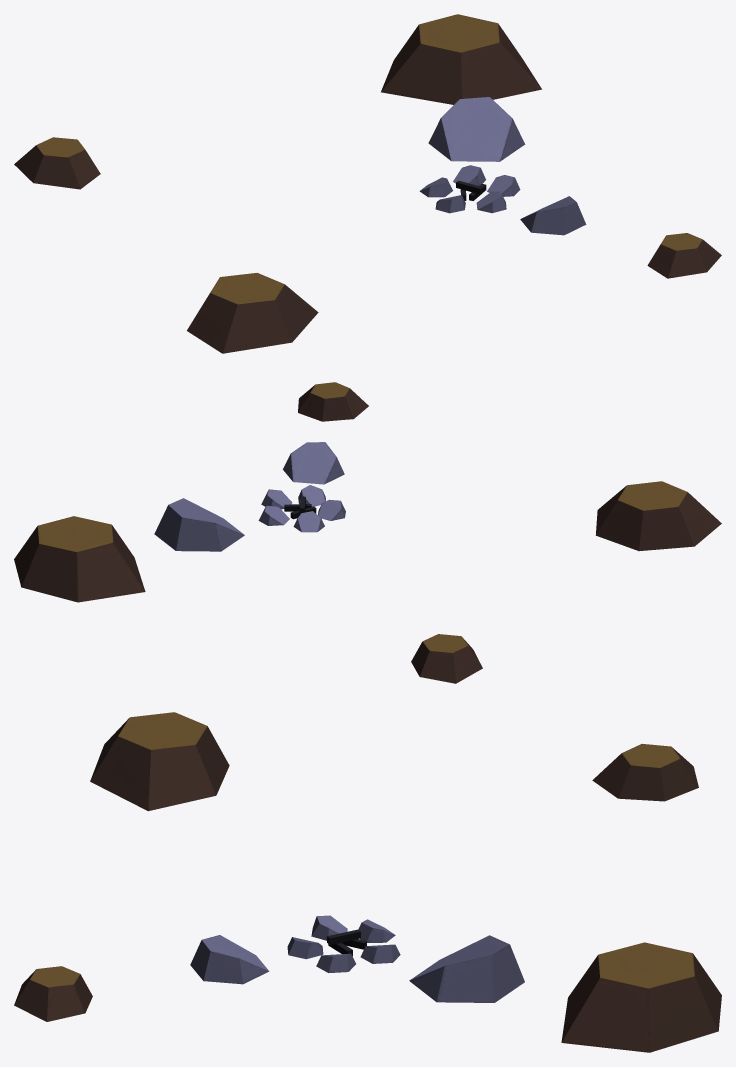
File: waste_1_ruin_lod1.fbx
The picture shows the model from 3 angles, top to bottom: view 1: azimuth 30°, elevation 25°; view 2: azimuth 150°, elevation 25°; view 3: azimuth 270°, elevation 25°; orthographic projection. The views are drawn at different scales.
Parts seen in each view (by area): view 1: waste_1_ruin_lod1; view 2: waste_1_ruin_lod1; view 3: waste_1_ruin_lod1.
Part boxes in pixels (x1,y1,x2,y2): waste_1_ruin_lod1: (14,14,721,353); waste_1_ruin_lod1: (14,382,721,683); waste_1_ruin_lod1: (14,712,721,1052).
Size of the model in its own units: 0.0511 by 0.00382 by 0.0493.
